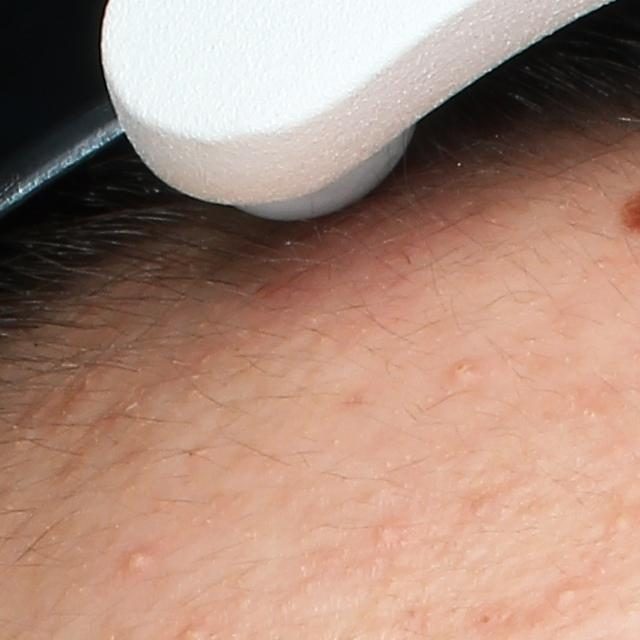comedo: (552, 580, 583, 607), (613, 511, 633, 537)
papule: (451, 355, 481, 389)
pustule: (124, 547, 155, 575)
